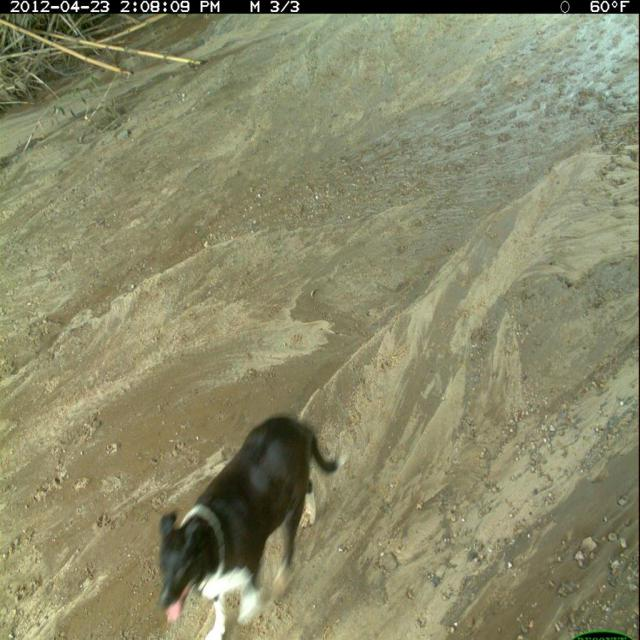dog: (153, 411, 352, 640)
